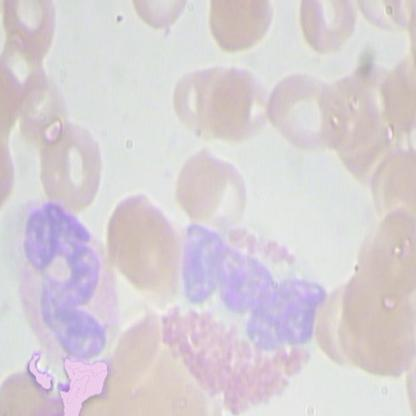RBC: (262, 64, 350, 158), (102, 182, 170, 288), (36, 116, 104, 210), (364, 204, 416, 302), (174, 141, 230, 219), (198, 152, 254, 230), (168, 54, 224, 132), (195, 60, 251, 138), (216, 64, 272, 142), (200, 0, 278, 56), (19, 67, 74, 146), (0, 0, 58, 65), (368, 60, 416, 136), (294, 0, 359, 55), (372, 148, 416, 226), (124, 0, 198, 32)
WBC: (150, 218, 331, 413), (5, 197, 126, 369)
